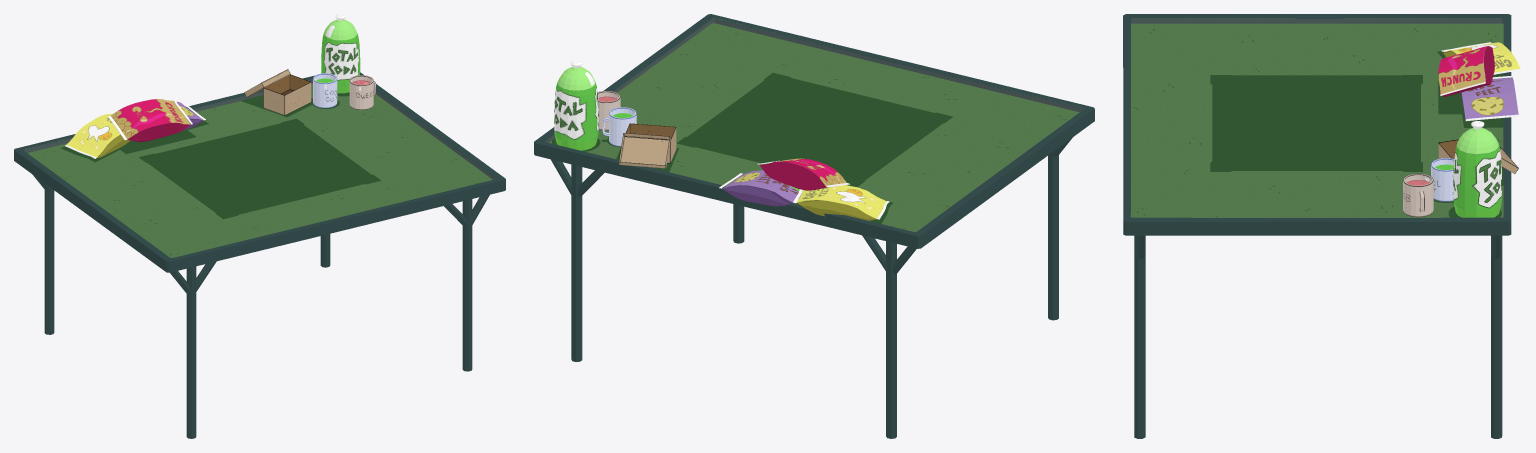
Rendered from TreeFort_Table.glb.
3 renders of one model, left to right at view 1: azimuth 30°, elevation 25°; view 2: azimuth 150°, elevation 25°; view 3: azimuth 270°, elevation 25°, orthographic. The views are drawn at different scales.
Parts seen in each view (by area): view 1: TreeFort_Table, TreeFort_Table_Objects; view 2: TreeFort_Table, TreeFort_Table_Objects; view 3: TreeFort_Table, TreeFort_Table_Objects.
Part boxes in pixels (x1,y1,x2,y2): TreeFort_Table: (14,72,505,438); TreeFort_Table_Objects: (65,14,375,158); TreeFort_Table: (534,14,1094,438); TreeFort_Table_Objects: (554,60,889,220); TreeFort_Table: (1123,14,1511,438); TreeFort_Table_Objects: (1403,42,1521,217).
Bounding box in the file's own units: 5.27 × 3.77 × 4.27.
Materials: 2 (2 with a texture image).
